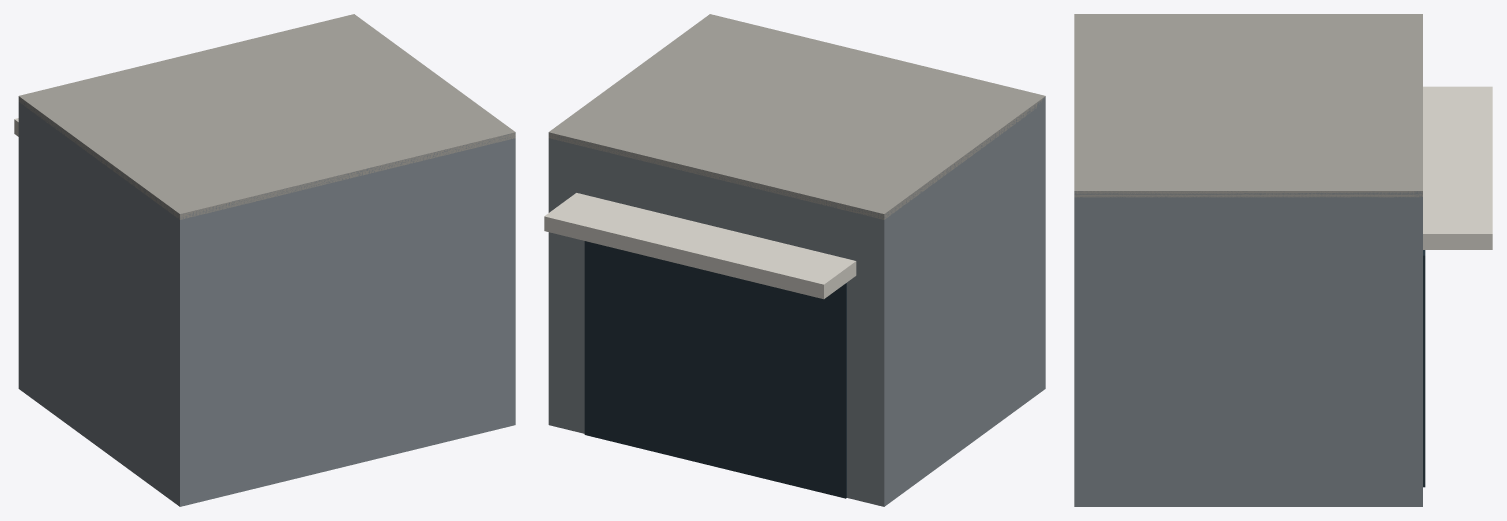
The model's file is bld_t0_kiosk.glb.
3 renders of one model, left to right at view 1: azimuth 30°, elevation 25°; view 2: azimuth 150°, elevation 25°; view 3: azimuth 270°, elevation 25°, orthographic. The views are drawn at different scales.
Visible parts, largest first — view 1: bld_t0_kiosk-col; view 2: bld_t0_kiosk-col; view 3: bld_t0_kiosk-col.
Part boxes in pixels (bbox=[...]): bld_t0_kiosk-col: bbox=[14, 14, 515, 506]; bld_t0_kiosk-col: bbox=[544, 14, 1045, 506]; bld_t0_kiosk-col: bbox=[1074, 14, 1492, 506].
Size of the model in its own units: 3.6 by 3 by 3.6.
